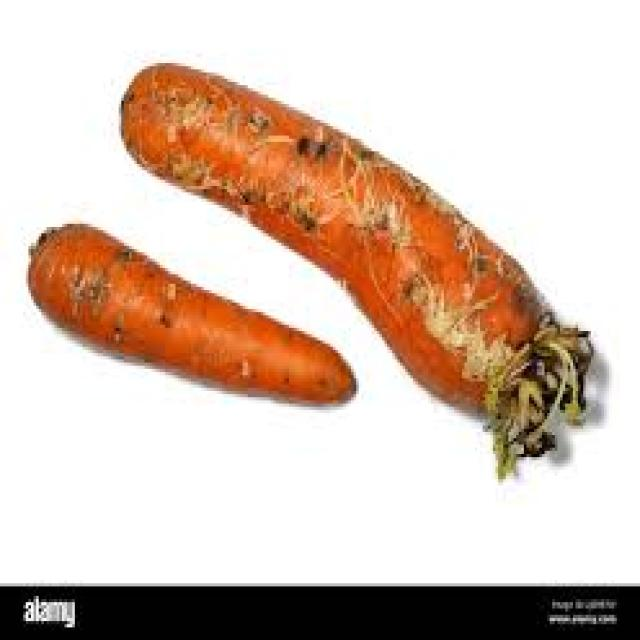Stale_Carrot: (118, 67, 591, 440), (27, 219, 357, 412)
